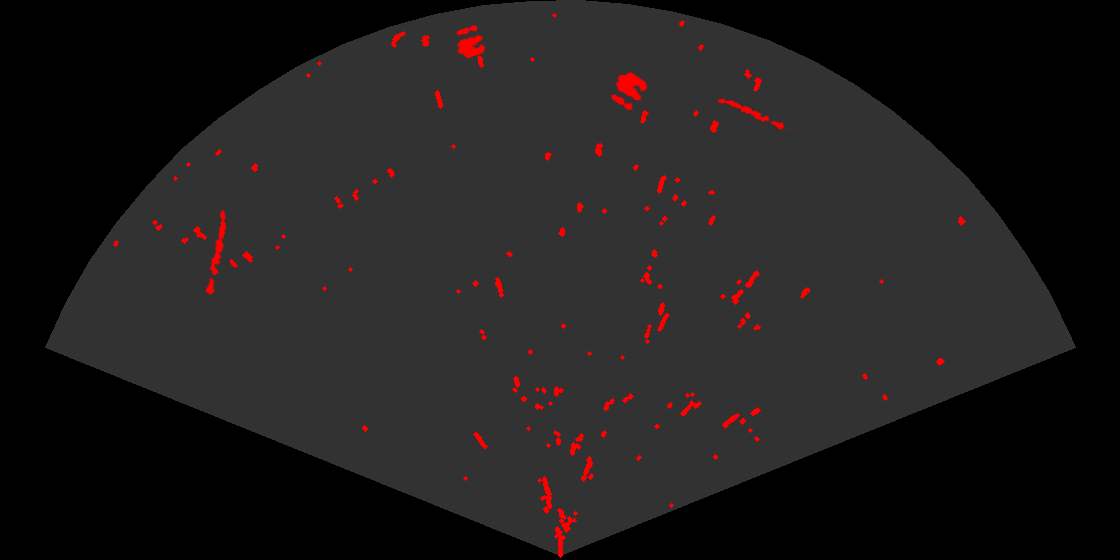ball: (609, 70, 649, 112), (454, 23, 488, 60)
chain: (716, 97, 791, 133), (204, 208, 228, 298)
